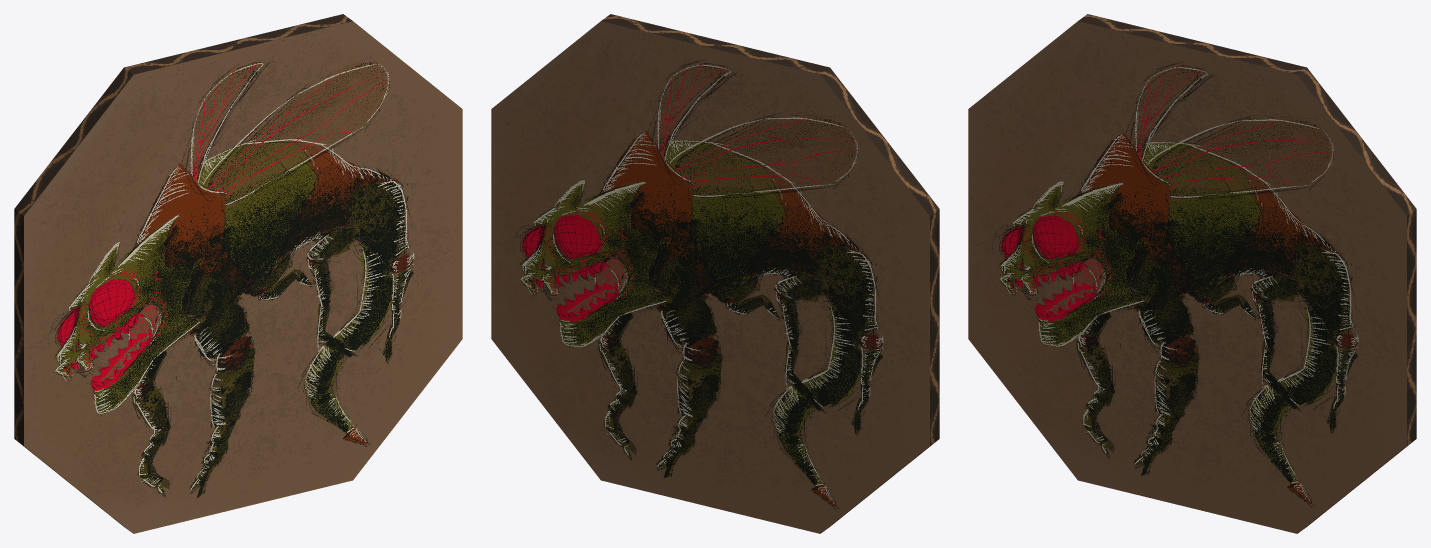
File: DragonflyBox.fbx
3 views of the same model, side by side, from view 1: azimuth 30°, elevation 25°; view 2: azimuth 150°, elevation 25°; view 3: azimuth 330°, elevation 25° (orthographic).
Parts seen in each view (by area): view 1: pCube2; view 2: pCube2; view 3: pCube2.
Boxes of the visible parts, x1,y1,x2,y2 form: pCube2: (14, 14, 462, 533); pCube2: (491, 14, 939, 533); pCube2: (968, 14, 1416, 533).
Size of the model in its own units: 3 by 3 by 0.1157.
